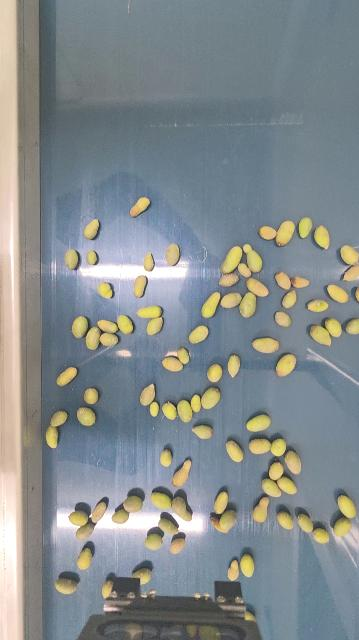Baby Potato: (221, 244, 244, 274), (242, 243, 263, 274), (201, 290, 222, 320), (308, 323, 333, 347), (172, 495, 193, 523), (276, 219, 297, 247), (275, 352, 298, 377), (245, 276, 271, 298), (251, 335, 281, 354), (284, 448, 304, 476), (252, 495, 271, 524), (337, 493, 358, 519), (226, 437, 246, 464), (239, 291, 258, 319), (173, 459, 192, 487), (326, 283, 351, 304), (246, 412, 272, 432), (295, 511, 316, 535), (218, 508, 238, 533), (201, 386, 221, 410), (313, 225, 332, 250), (176, 398, 194, 424), (129, 196, 150, 218), (56, 365, 77, 387), (261, 477, 283, 498), (239, 552, 255, 580), (277, 474, 298, 495), (75, 406, 97, 426), (71, 316, 90, 339), (248, 437, 272, 455), (333, 516, 353, 537), (339, 244, 359, 265), (150, 491, 172, 510), (276, 509, 295, 531), (55, 577, 78, 595), (220, 291, 243, 309), (165, 242, 181, 267), (189, 324, 209, 344), (324, 316, 343, 337), (117, 313, 135, 335), (90, 501, 107, 524), (139, 383, 156, 406), (162, 355, 185, 372), (227, 353, 242, 379), (214, 489, 229, 515), (137, 305, 163, 320), (69, 508, 89, 527), (270, 436, 288, 457), (159, 516, 180, 534), (85, 326, 101, 349), (191, 424, 214, 440), (298, 216, 314, 239), (146, 316, 164, 336), (268, 460, 285, 481), (64, 248, 80, 270), (97, 317, 119, 333), (84, 218, 99, 241), (77, 547, 92, 570), (307, 298, 330, 313), (313, 526, 331, 545), (123, 495, 143, 512), (169, 535, 186, 555), (207, 363, 224, 383), (227, 558, 241, 582), (133, 274, 147, 298), (282, 289, 298, 310), (45, 425, 59, 449), (50, 409, 68, 427), (75, 523, 94, 540), (342, 263, 359, 282), (99, 331, 119, 347), (218, 273, 240, 287), (145, 533, 163, 550), (274, 310, 292, 327), (275, 271, 292, 289), (258, 224, 277, 240), (163, 401, 178, 421), (111, 508, 129, 524), (291, 274, 310, 289), (83, 388, 99, 405), (136, 567, 152, 584), (98, 281, 113, 299), (101, 579, 114, 599), (190, 393, 202, 414), (345, 316, 359, 334), (160, 449, 173, 467), (143, 252, 154, 272), (178, 346, 190, 364), (238, 262, 251, 278), (148, 400, 159, 416), (86, 249, 97, 264), (212, 512, 220, 532), (244, 611, 256, 622), (355, 285, 359, 308)
